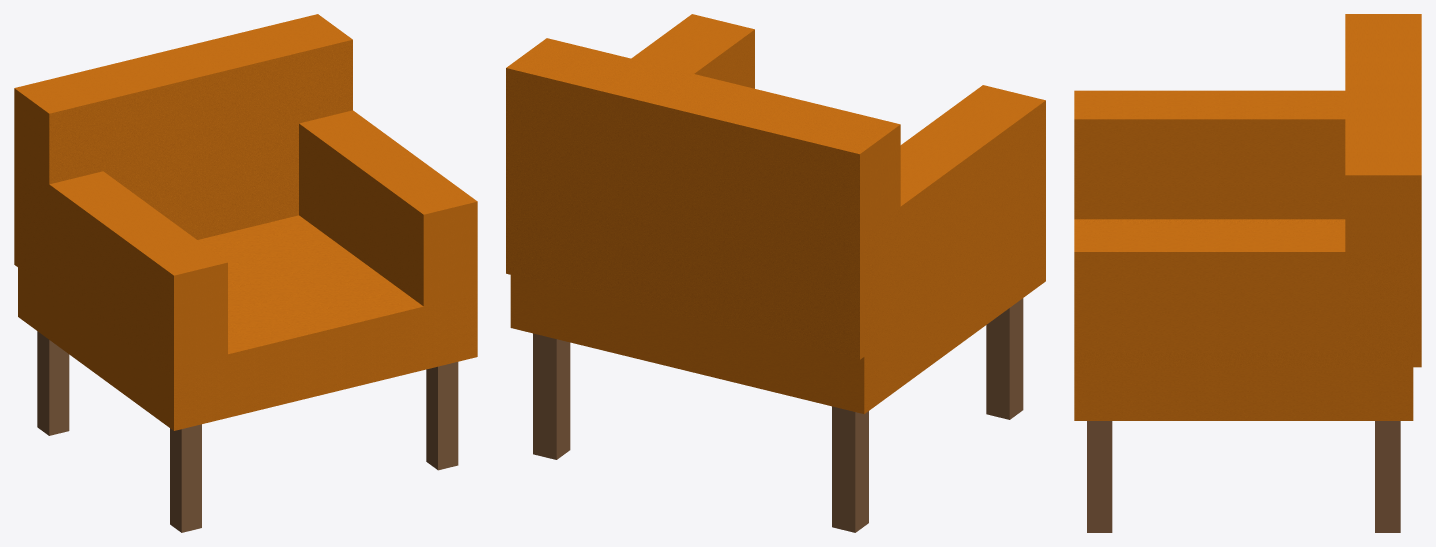
File: sample_armchair.glb
3 renders of one model, left to right at view 1: azimuth 30°, elevation 25°; view 2: azimuth 150°, elevation 25°; view 3: azimuth 270°, elevation 25°, orthographic. The views are drawn at different scales.
Parts seen in each view (by area): view 1: part.001, part, part.002, part.005, part.006, part.003, part.004; view 2: part.001, part, part.002, part.005, part.007, part.004, part.003; view 3: part.005, part.002, part, part.001, part.006, part.007.
Part boxes in pixels (x1,y1,x2,y2): part.001: [14, 14, 352, 266]; part: [18, 215, 477, 430]; part.002: [18, 162, 227, 381]; part.005: [299, 110, 477, 311]; part.006: [426, 362, 458, 470]; part.003: [170, 424, 201, 532]; part.004: [37, 331, 69, 435]; part.001: [506, 38, 900, 359]; part: [510, 218, 1045, 414]; part.002: [864, 85, 1045, 356]; part.005: [631, 14, 754, 88]; part.007: [533, 333, 570, 459]; part.004: [832, 406, 868, 532]; part.003: [986, 298, 1023, 419]; part.005: [1074, 223, 1413, 367]; part.002: [1074, 90, 1345, 219]; part: [1074, 219, 1413, 420]; part.001: [1345, 14, 1421, 367]; part.006: [1087, 421, 1112, 532]; part.007: [1375, 421, 1400, 532].
Size of the model in its own units: 2.7 by 2.85 by 2.46.
Materials: 2 (1 with a texture image).
